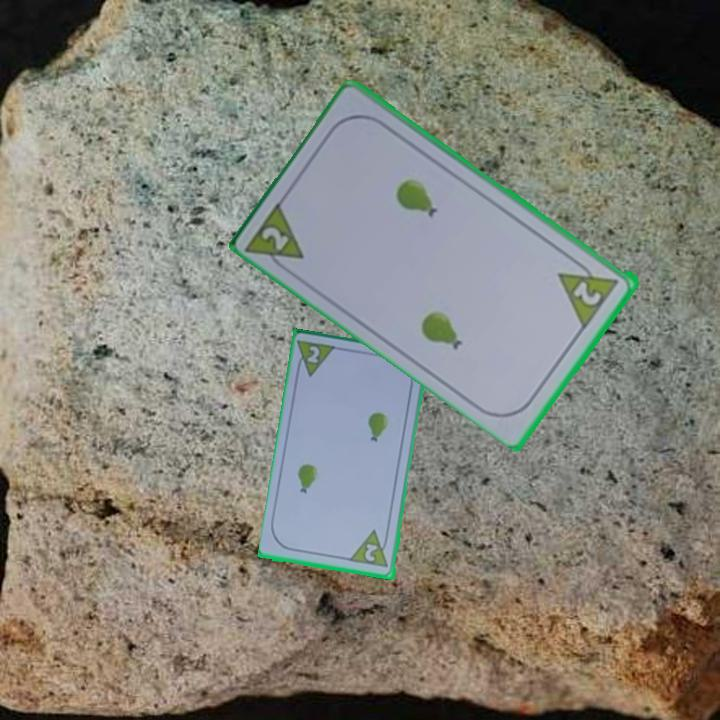2p: (570, 277, 605, 309), (258, 222, 293, 254), (361, 540, 381, 565), (303, 342, 323, 367)
